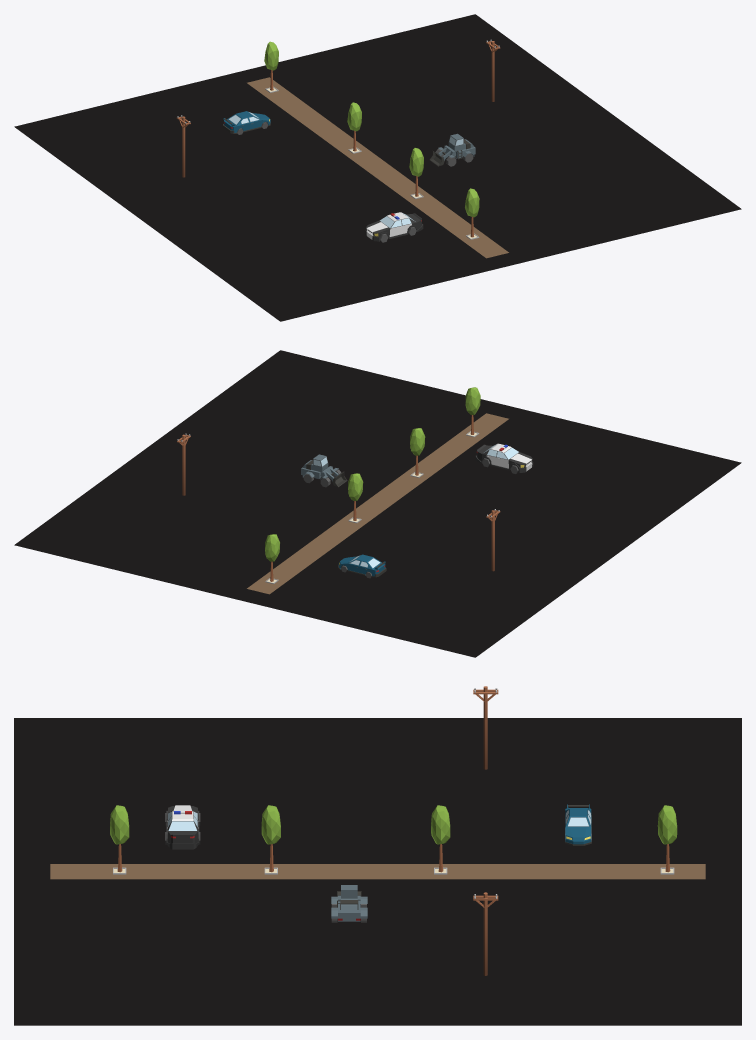
Rendered from Tile 13_Combined_3.fbx.
3 renders of one model, top to bottom at view 1: azimuth 30°, elevation 25°; view 2: azimuth 150°, elevation 25°; view 3: azimuth 270°, elevation 25°, orthographic. The views are drawn at different scales.
Visible parts, largest first — view 1: MeshBaker_mesh_mesh; view 2: MeshBaker_mesh_mesh; view 3: MeshBaker_mesh_mesh.
Part boxes in pixels (x1,y1,x2,y2): MeshBaker_mesh_mesh: (14, 14, 741, 321); MeshBaker_mesh_mesh: (14, 350, 741, 657); MeshBaker_mesh_mesh: (14, 686, 741, 1025).
Bounding box in the file's own units: 3000 × 371 × 3000.
